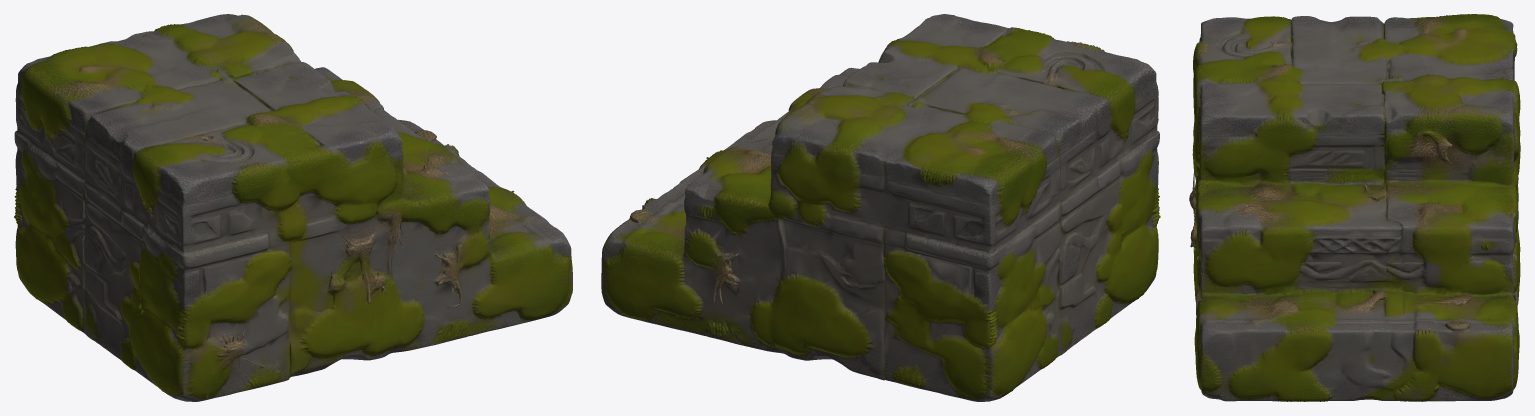
Rendered from mossy-stone-stair-block-optimized.glb.
3 views of the same model, side by side, from view 1: azimuth 30°, elevation 25°; view 2: azimuth 150°, elevation 25°; view 3: azimuth 270°, elevation 25° (orthographic). The views are drawn at different scales.
Visible parts, largest first — view 1: tripo_node_4aaee327-9ead-4a5b-a210-2827d51c8c7a; view 2: tripo_node_4aaee327-9ead-4a5b-a210-2827d51c8c7a; view 3: tripo_node_4aaee327-9ead-4a5b-a210-2827d51c8c7a.
Boxes of the visible parts, x1=… form: tripo_node_4aaee327-9ead-4a5b-a210-2827d51c8c7a: x1=14, y1=14, x2=572, y2=401; tripo_node_4aaee327-9ead-4a5b-a210-2827d51c8c7a: x1=601, y1=14, x2=1160, y2=401; tripo_node_4aaee327-9ead-4a5b-a210-2827d51c8c7a: x1=1189, y1=14, x2=1520, y2=401.
Size of the model in its own units: 1 by 0.5572 by 0.7675.
1 material, 1 textured.
